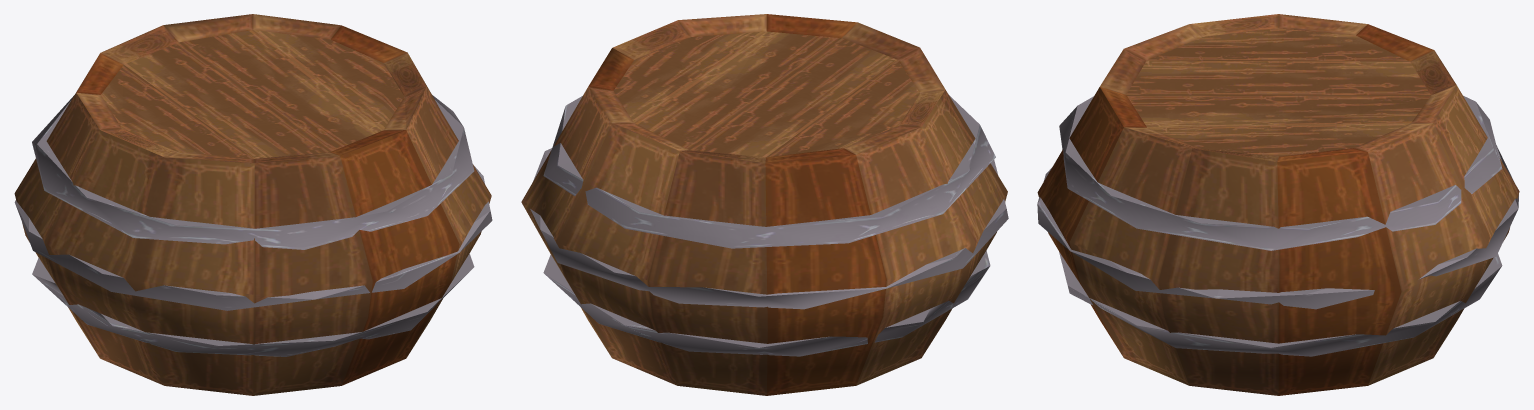
File: tub.lod1.gltf
The picture shows the model from 3 angles, left to right: view 1: azimuth 30°, elevation 25°; view 2: azimuth 150°, elevation 25°; view 3: azimuth 270°, elevation 25°; orthographic projection.
Visible parts, largest first — view 1: Barrel; view 2: Barrel; view 3: Barrel.
Part boxes in pixels (x1,y1,x2,y2): Barrel: (14, 14, 492, 395); Barrel: (521, 14, 1008, 395); Barrel: (1037, 14, 1519, 395).
Size of the model in its own units: 1 by 0.5404 by 0.9986.
Materials: 2 (2 with a texture image).
